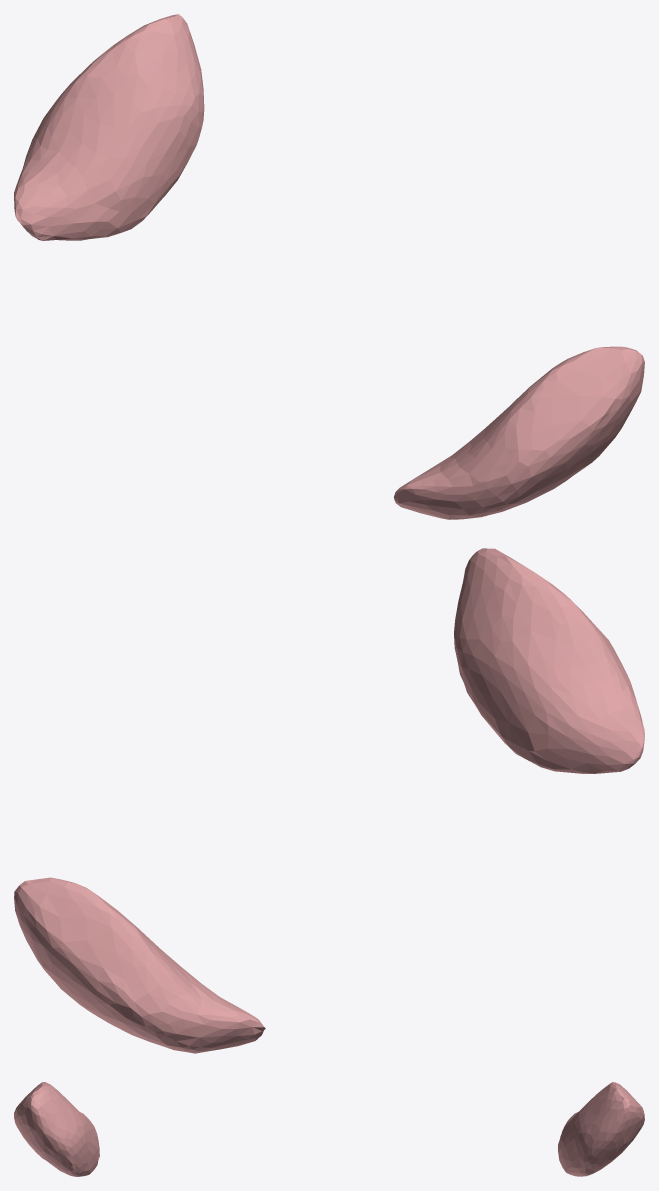
3 views of the same model, one above another, from view 1: azimuth 30°, elevation 25°; view 2: azimuth 150°, elevation 25°; view 3: azimuth 270°, elevation 25° (orthographic). The views are drawn at different scales.
Parts seen in each view (by area): view 1: 170.obj; view 2: 170.obj; view 3: 170.obj.
Part boxes in pixels (bbox=[...]): 170.obj: bbox=[14, 14, 644, 519]; 170.obj: bbox=[14, 548, 644, 1053]; 170.obj: bbox=[14, 1082, 644, 1176].
Size of the model in its own units: 1350 by 1007 by 5348.
